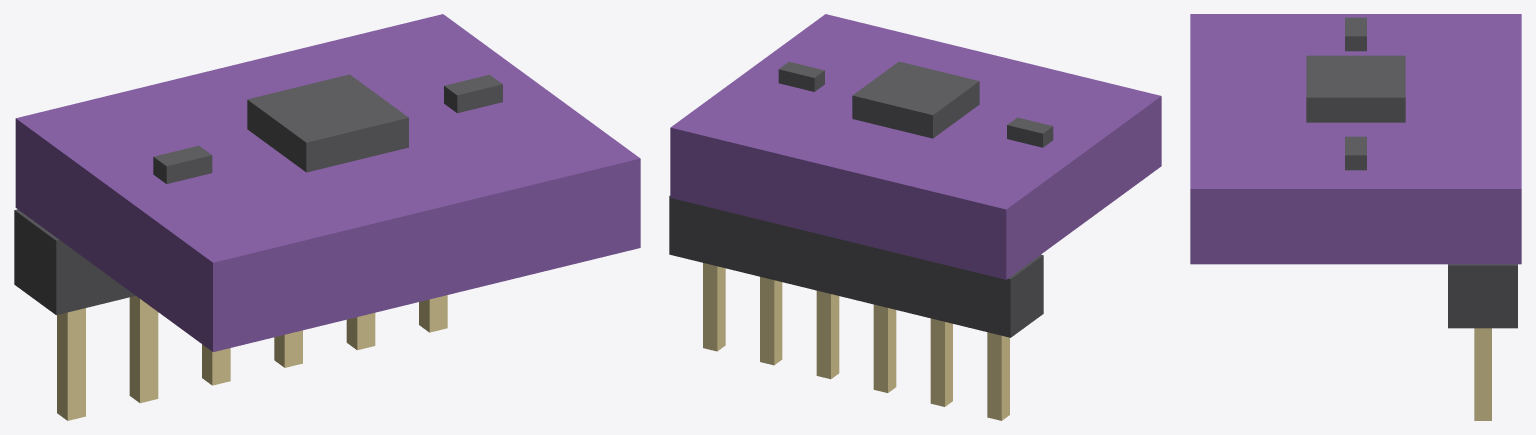
File: bmp280.glb
3 renders of one model, left to right at view 1: azimuth 30°, elevation 25°; view 2: azimuth 150°, elevation 25°; view 3: azimuth 270°, elevation 25°, orthographic. The views are drawn at different scales.
Parts seen in each view (by area): view 1: bmp280-pcb, bmp280-ic, bmp280-pins, bmp280-plastic; view 2: bmp280-pcb, bmp280-plastic, bmp280-pins, bmp280-ic; view 3: bmp280-pcb, bmp280-ic, bmp280-plastic, bmp280-pins.
Part boxes in pixels (box(x1,y1,x2,y2)): bmp280-pcb: box(15, 14, 640, 352); bmp280-ic: box(153, 74, 502, 183); bmp280-pins: box(57, 295, 447, 420); bmp280-plastic: box(14, 209, 135, 315); bmp280-pcb: box(670, 14, 1161, 279); bmp280-plastic: box(669, 195, 1043, 337); bmp280-pins: box(703, 263, 1009, 420); bmp280-ic: box(778, 61, 1053, 147); bmp280-pcb: box(1190, 14, 1521, 264); bmp280-ic: box(1306, 17, 1405, 170); bmp280-plastic: box(1448, 264, 1517, 328); bmp280-pins: box(1474, 328, 1491, 420).
Bounding box in the file's own units: 0.0152 × 0.0107 × 0.012.
